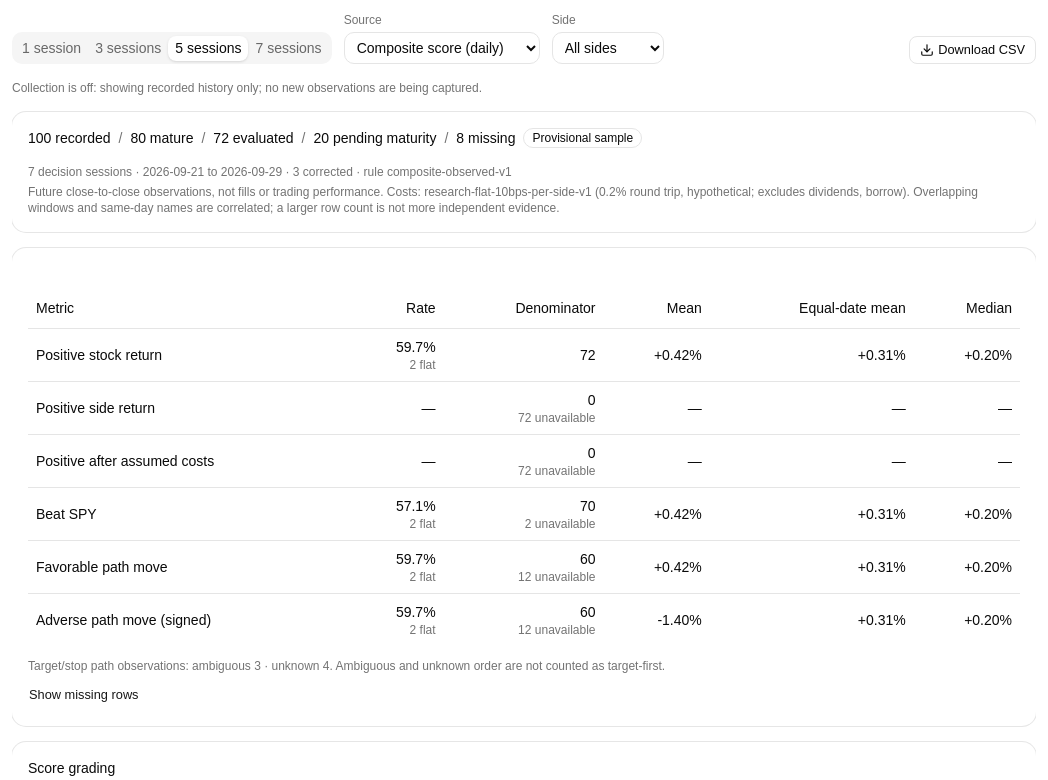
Scenario: non-composite source hides score grading even while the previous report is cached
Select "Catalyst scanner" in the dropdown labelled "Source". click: (442, 48)
box: [344,32,540,64]
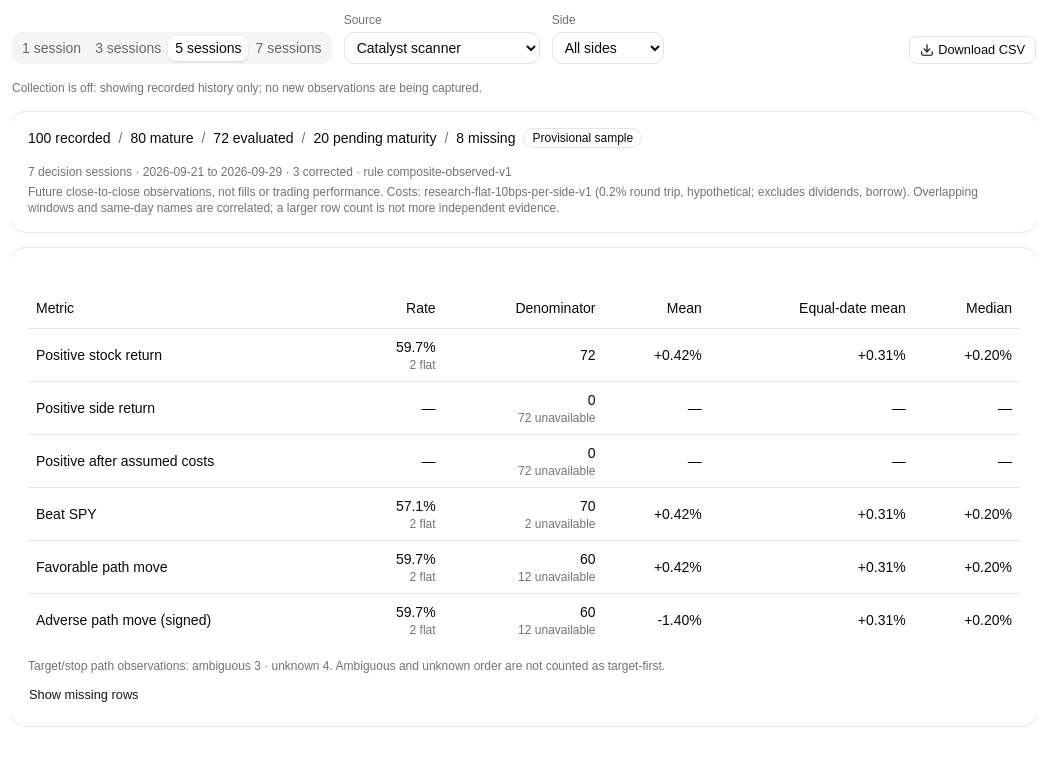
Result: the text "Score grading" is gone
